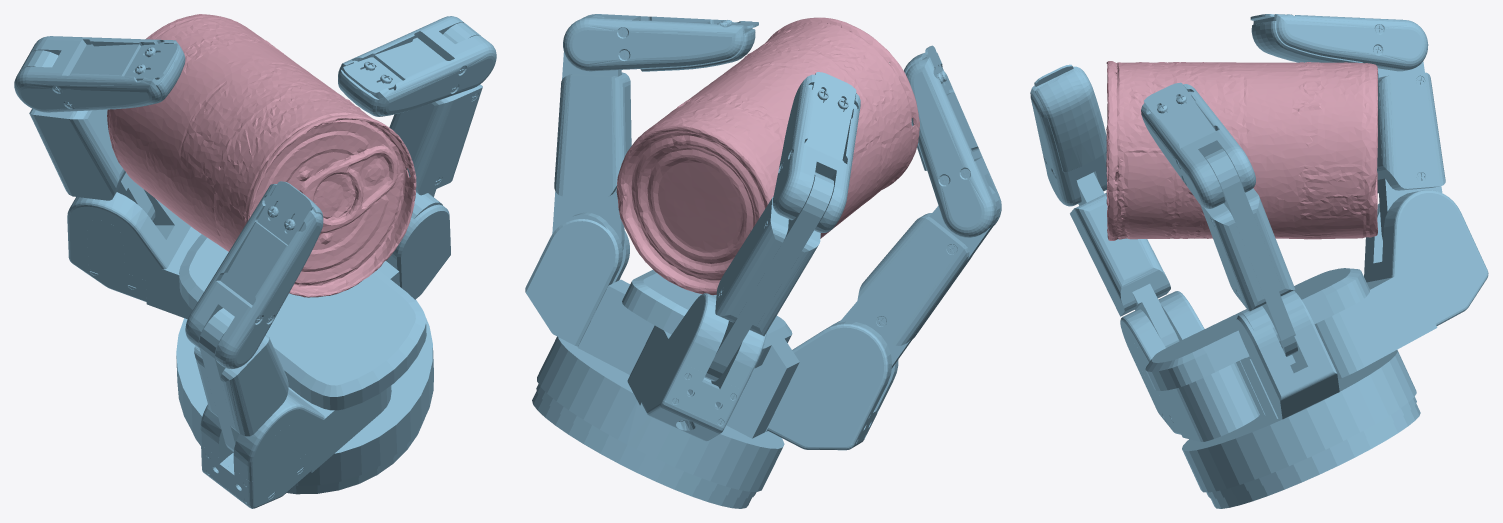
3 renders of one model, left to right at view 1: azimuth 30°, elevation 25°; view 2: azimuth 150°, elevation 25°; view 3: azimuth 270°, elevation 25°, orthographic. The views are drawn at different scales.
Visible parts, largest first — view 1: world; view 2: world; view 3: world.
Boxes of the visible parts, <box> form: world: <box>14,14,496,508</box>; world: <box>525,14,1001,508</box>; world: <box>1030,14,1488,508</box>.
Size of the model in its own units: 0.1507 by 0.1764 by 0.1716.
